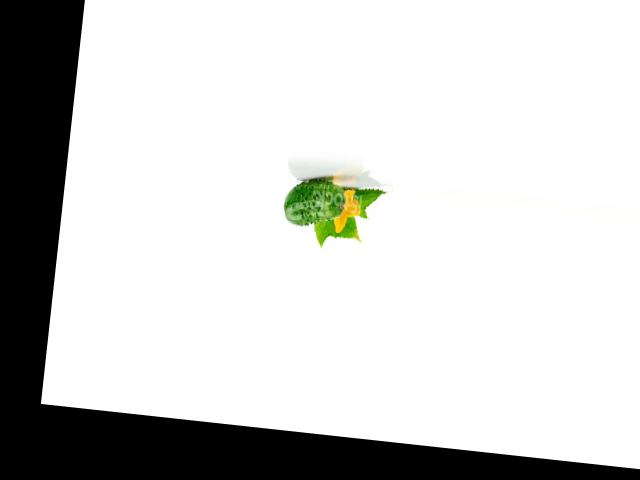cucumber: (281, 176, 345, 229)
